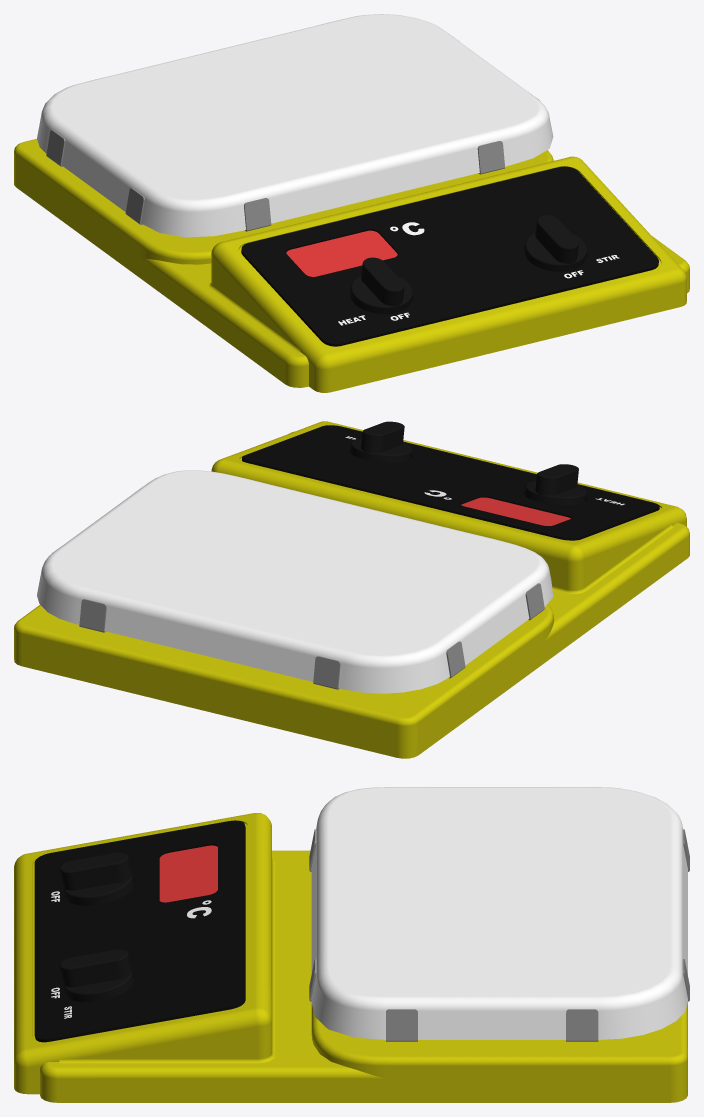
The model's file is scale with material.fbx.
The picture shows the model from 3 angles, top to bottom: view 1: azimuth 30°, elevation 25°; view 2: azimuth 150°, elevation 25°; view 3: azimuth 270°, elevation 25°; orthographic projection. The views are drawn at different scales.
Parts seen in each view (by area): view 1: Object_36, Object_25, Object_22, Object002, Object_24, Object_23, Object_29, Object_30; view 2: Object_36, Object_25, Object_22, Object_23, Object_24, Object002, Object_31, Object_32; view 3: Object_36, Object_25, Object_22, Object_24, Object_23, Object002, Object_35, Object_7.
Part boxes in pixels (x1=…): Object_36: x1=37, y1=14, x2=553, y2=237; Object_25: x1=14, y1=139, x2=689, y2=392; Object_22: x1=241, y1=166, x2=658, y2=346; Object002: x1=286, y1=230, x2=397, y2=276; Object_24: x1=350, y1=257, x2=412, y2=314; Object_23: x1=524, y1=215, x2=586, y2=271; Object_29: x1=477, y1=141, x2=504, y2=174; Object_30: x1=244, y1=198, x2=271, y2=231; Object_36: x1=37, y1=470, x2=553, y2=693; Object_25: x1=14, y1=421, x2=689, y2=758; Object_22: x1=242, y1=425, x2=659, y2=540; Object_23: x1=350, y1=421, x2=412, y2=462; Object_24: x1=524, y1=464, x2=586, y2=505; Object002: x1=461, y1=497, x2=570, y2=525; Object_31: x1=313, y1=656, x2=340, y2=689; Object_32: x1=79, y1=599, x2=106, y2=632; Object_36: x1=311, y1=787, x2=687, y2=1039; Object_25: x1=14, y1=813, x2=687, y2=1102; Object_22: x1=34, y1=820, x2=245, y2=1042; Object_24: x1=59, y1=852, x2=134, y2=905; Object_23: x1=59, y1=949, x2=134, y2=1002; Object002: x1=159, y1=845, x2=217, y2=902; Object_35: x1=566, y1=1009, x2=598, y2=1041; Object_7: x1=386, y1=1009, x2=417, y2=1041.
Size of the model in its own units: 49.44 by 11.12 by 62.88.
